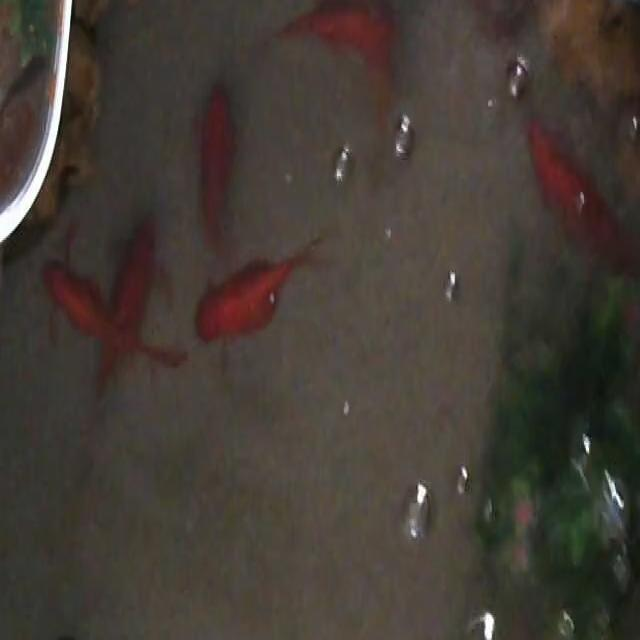fish: (43, 235, 188, 394), (263, 0, 398, 148), (522, 114, 640, 282), (191, 228, 338, 349), (197, 80, 238, 248), (447, 0, 526, 39)
